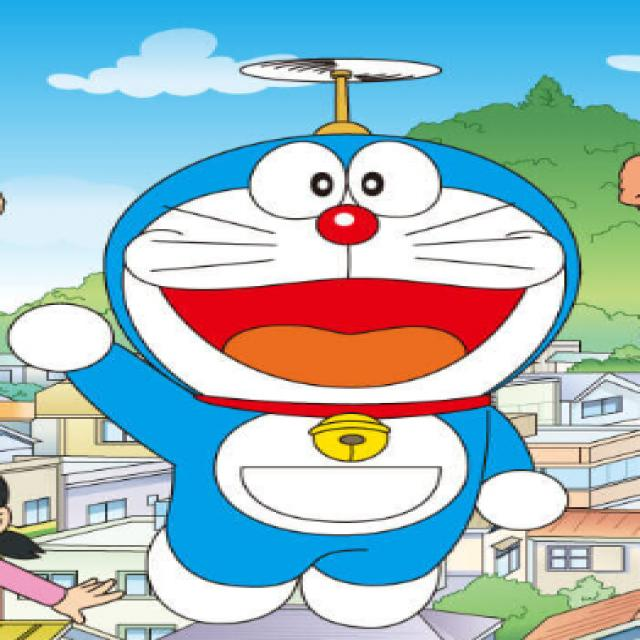Ameng: (44, 120, 596, 434)
